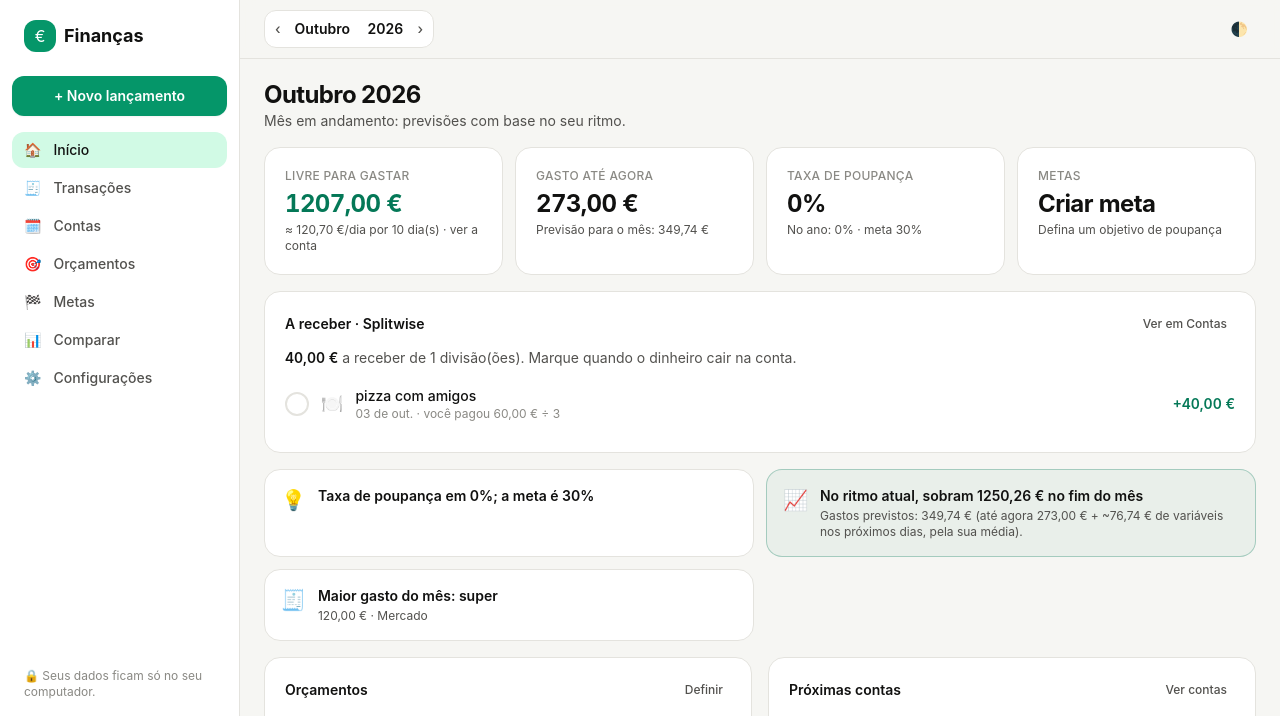
App: URL, loading and errors › an error on a page you left does not follow you, and a server error says so
Check: the heading "Outubro 2026" is shown, box [264,80,421,109]
Click the button "📊 Comparar" at (120, 340), box [12,322,227,358]
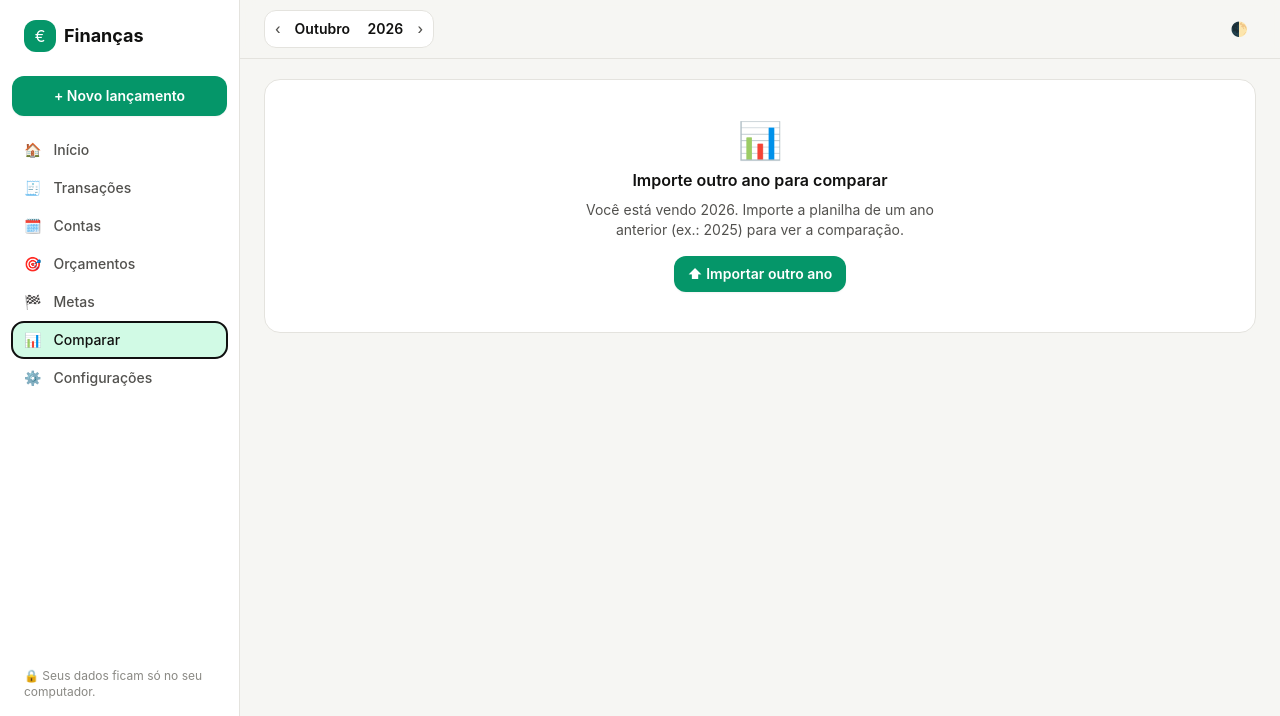
Check: the heading "Importe outro ano para comparar" is shown, box [632,168,888,192]
Click the button "🏠 Início" at (120, 150), box [12,132,227,168]
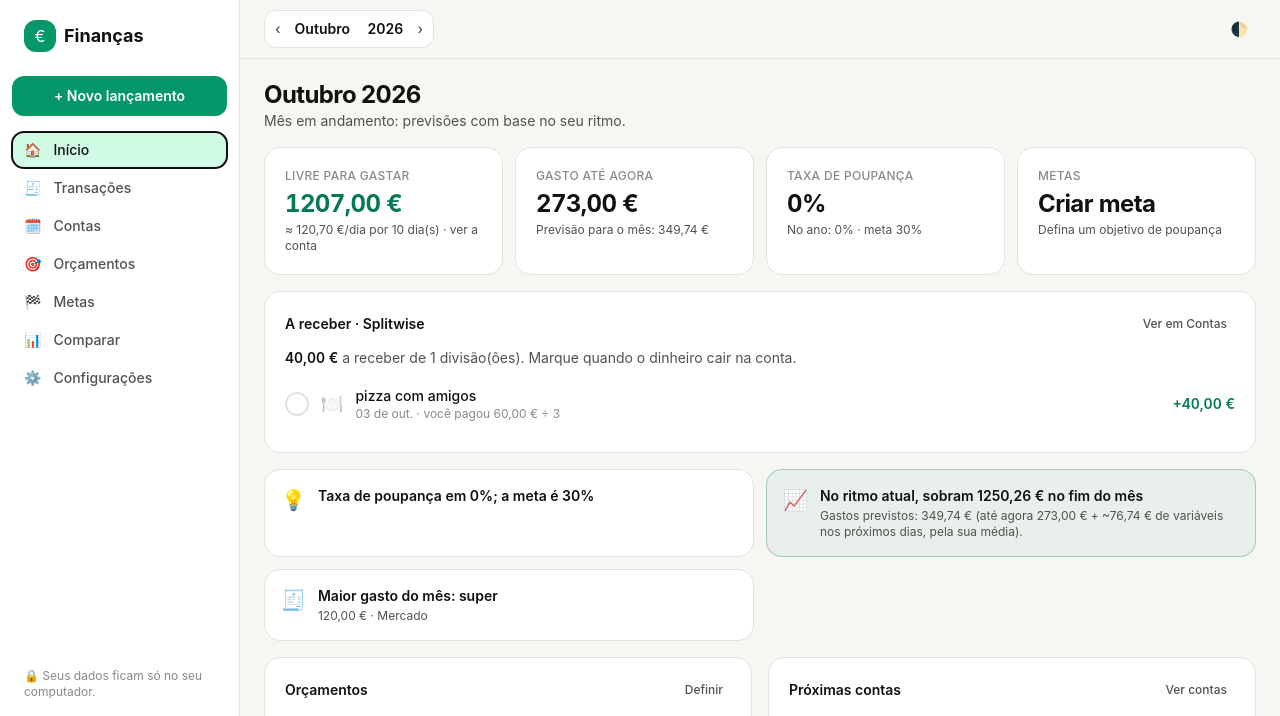
Check: the heading "Outubro 2026" is shown, box [264,80,421,109]
